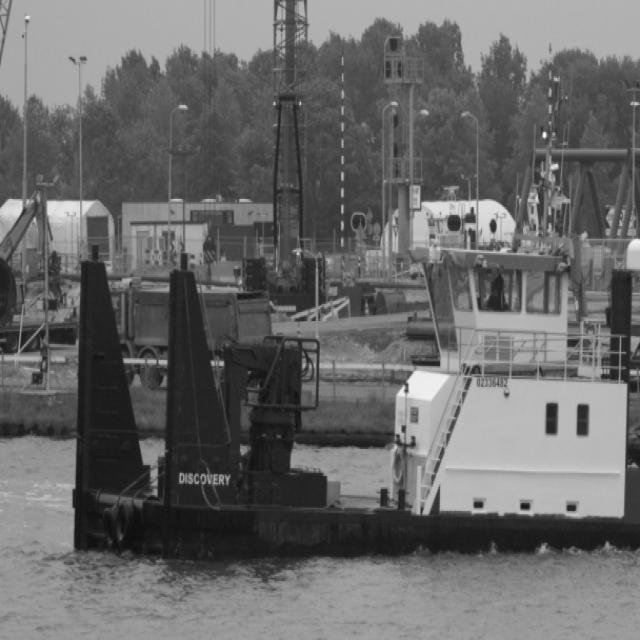tugboat: (74, 198, 640, 583)
